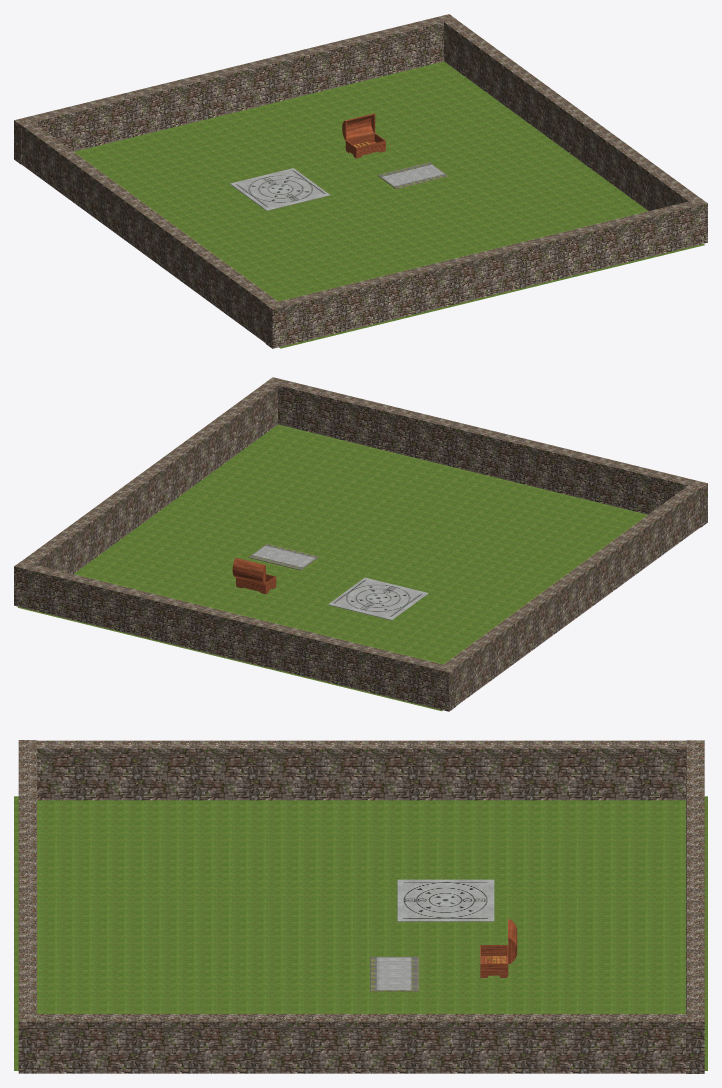
File: garden.DAE
The picture shows the model from 3 angles, top to bottom: view 1: azimuth 30°, elevation 25°; view 2: azimuth 150°, elevation 25°; view 3: azimuth 270°, elevation 25°; orthographic projection. The views are drawn at different scales.
Parts seen in each view (by area): view 1: grass, wall_south, wall_north, wall_west, wall_east, playing_field, target_range, chest, chest_top; view 2: grass, wall_north, wall_south, wall_west, wall_east, playing_field, target_range, chest_top; view 3: grass, wall_west, wall_east, wall_south, wall_north, playing_field, target_range, chest.
Part boxes in pixels (box(x1,y1,x2,y2)): grass: box(74, 61, 704, 348); wall_south: box(265, 198, 707, 348); wall_north: box(14, 14, 455, 164); wall_west: box(18, 120, 279, 342); wall_east: box(441, 18, 700, 210); playing_field: box(230, 168, 329, 210); target_range: box(377, 162, 448, 189); chest: box(345, 133, 385, 158); chest_top: box(342, 113, 375, 140); grass: box(17, 424, 647, 711); wall_north: box(14, 561, 456, 711); wall_south: box(266, 377, 707, 527); wall_west: box(441, 485, 700, 705); wall_east: box(18, 380, 277, 573); playing_field: box(328, 577, 428, 620); target_range: box(248, 543, 319, 570); chest_top: box(232, 558, 265, 584); grass: box(14, 796, 707, 1070); wall_west: box(28, 740, 694, 800); wall_east: box(27, 1014, 693, 1073); wall_south: box(18, 740, 36, 1073); wall_north: box(686, 740, 704, 1073); playing_field: box(397, 879, 494, 921); target_range: box(370, 956, 419, 991); chest: box(480, 945, 508, 977).
Bounding box in the file's own units: 23.01 × 23.96 × 2.02.
Materials: 11 (11 with a texture image).
